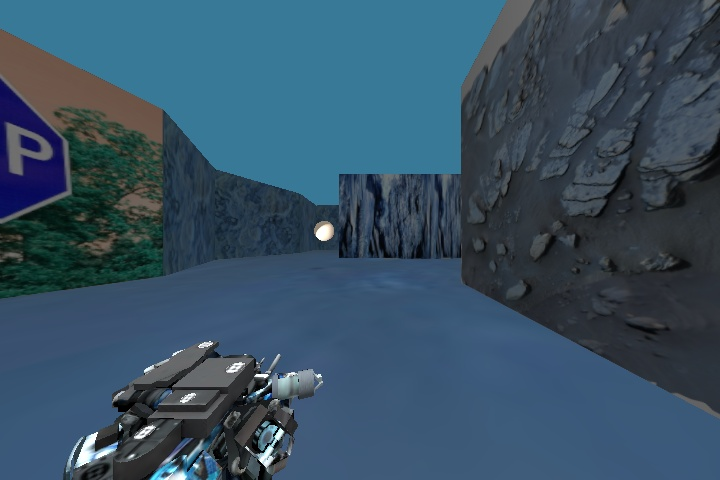stop_sign: (1, 71, 87, 238)
white_sphere: (310, 218, 339, 245)
